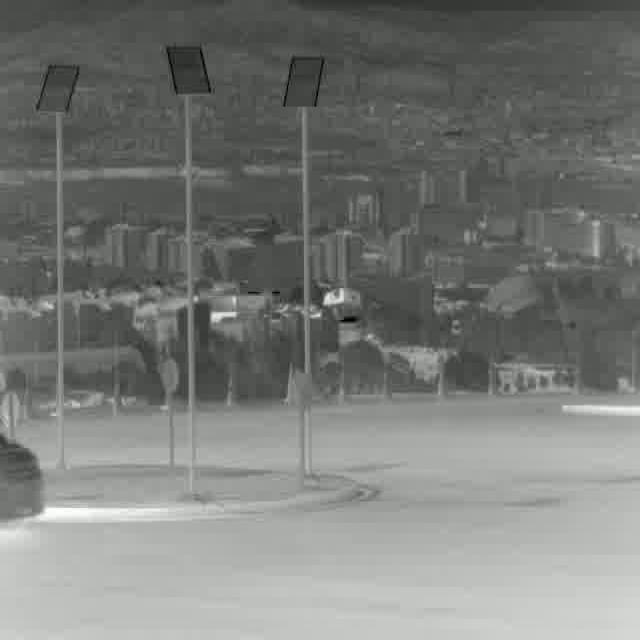Car: (0, 434, 43, 525)
